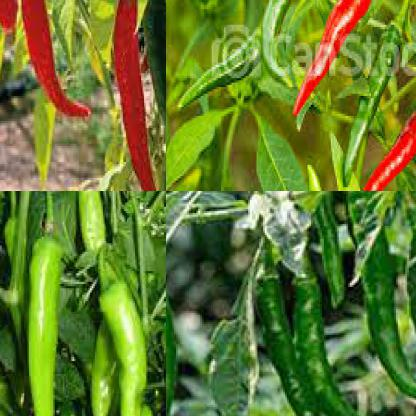Green Chilli: (289, 268, 415, 415), (341, 18, 410, 189), (351, 226, 415, 410), (252, 275, 336, 415), (178, 11, 266, 114), (292, 191, 350, 311), (96, 283, 147, 415), (27, 239, 63, 415), (256, 0, 319, 88), (139, 0, 165, 190), (86, 309, 121, 415), (2, 216, 29, 320), (72, 191, 110, 257), (403, 215, 415, 415)
